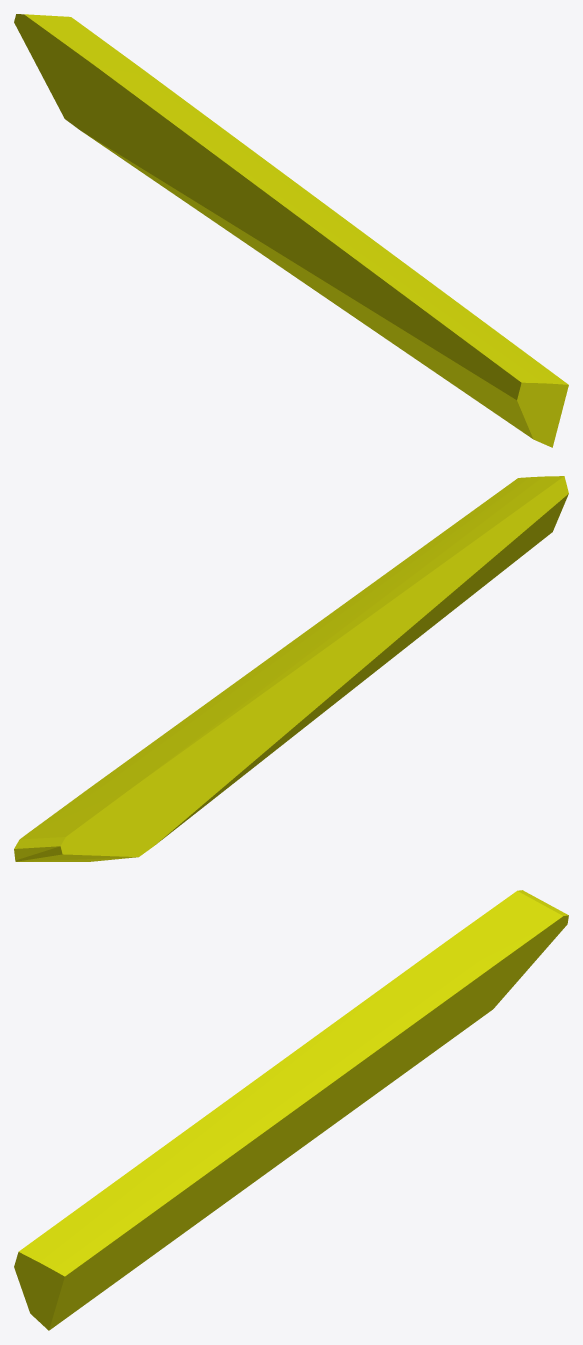
File: converted_Downdraft_Assy_collision_28_d9de05ff.obj
3 renders of one model, top to bottom at view 1: azimuth 30°, elevation 25°; view 2: azimuth 150°, elevation 25°; view 3: azimuth 330°, elevation 25°, orthographic.
Bounding box in the file's own units: 0.0698 × 0.0769 × 0.9655.
